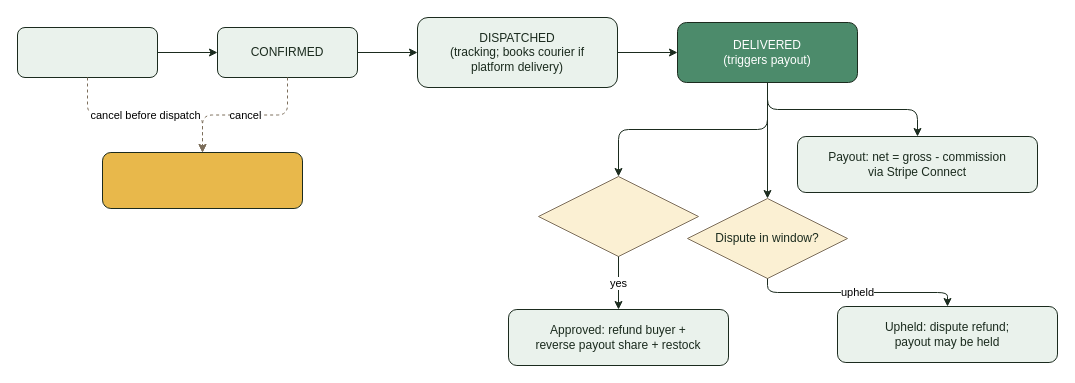
Image size: 1075x383. Some labels were removed from this diagram. Here are the shapes that lost their labels. From the top down, the box of each, then its label:
(16, 26, 158, 78): PENDING
(102, 152, 302, 208): CANCELLED (release stock, refund)
(538, 176, 698, 256): Return within 14 days?
